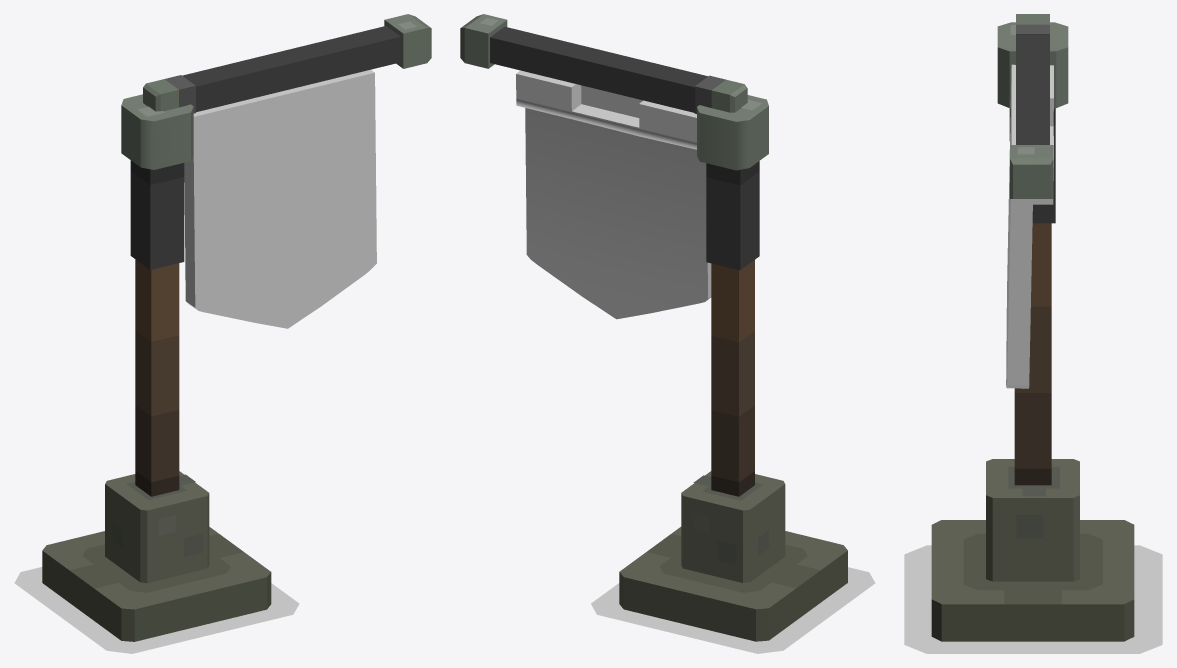
The model's file is GG_guild_flag_1.fbx.
The picture shows the model from 3 angles, left to right: view 1: azimuth 30°, elevation 25°; view 2: azimuth 150°, elevation 25°; view 3: azimuth 270°, elevation 25°; orthographic projection. The views are drawn at different scales.
Parts seen in each view (by area): view 1: polySurface1, polySurface5, polySurface2, ground; view 2: polySurface1, polySurface5, polySurface2, ground; view 3: polySurface1, ground, polySurface2, polySurface5.
Boxes of the visible parts, x1,y1,x2,y2 form: polySurface1: (42, 94, 271, 641); polySurface5: (184, 69, 376, 328); polySurface2: (143, 14, 431, 113); ground: (14, 567, 299, 653); polySurface1: (619, 95, 847, 641); polySurface5: (516, 70, 711, 319); polySurface2: (460, 14, 747, 113); ground: (591, 567, 875, 653); polySurface1: (931, 22, 1134, 641); ground: (904, 545, 1162, 653); polySurface2: (1010, 14, 1053, 198); polySurface5: (1006, 64, 1053, 388).
Size of the model in its own units: 5.55 by 7.48 by 2.97.
